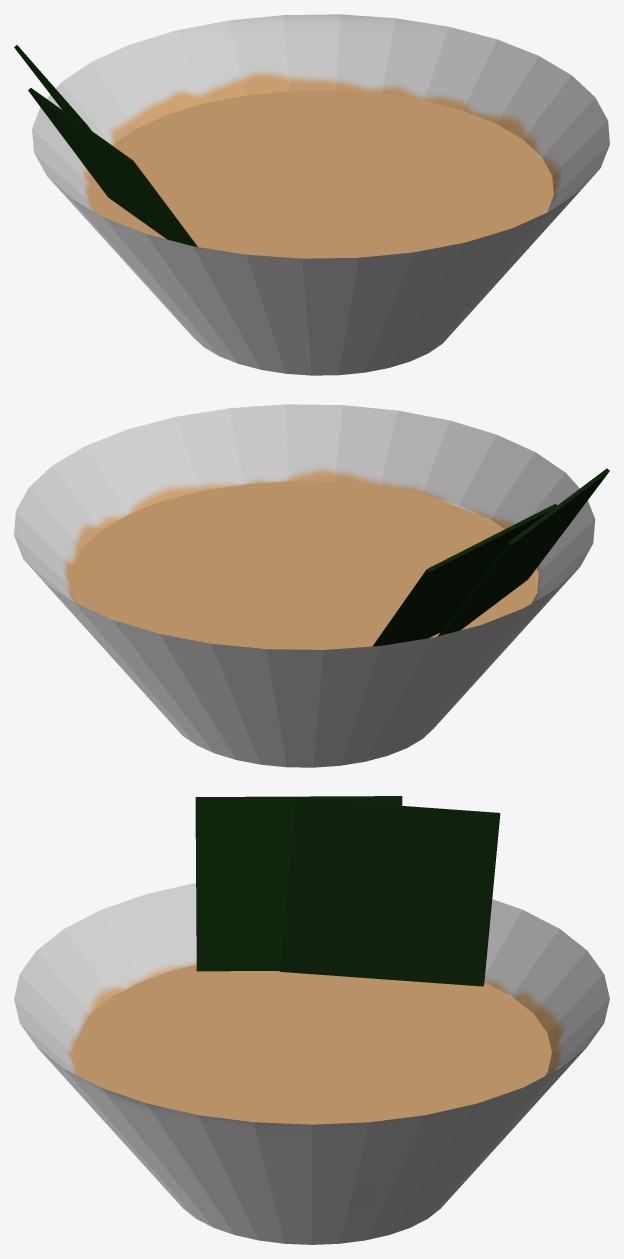
Rendered from eatRamen.obj.
3 renders of one model, top to bottom at view 1: azimuth 30°, elevation 25°; view 2: azimuth 150°, elevation 25°; view 3: azimuth 270°, elevation 25°, orthographic. The views are drawn at different scales.
Parts seen in each view (by area): view 1: 円柱, 立方体_立方体.003, 立方体.001_立方体.002; view 2: 円柱, 立方体.001_立方体.002, 立方体_立方体.003; view 3: 円柱, 立方体.001_立方体.002, 立方体_立方体.003.
Boxes of the visible parts, x1=… form: 円柱: x1=32, y1=14, x2=609, y2=375; 立方体_立方体.003: x1=28, y1=88, x2=197, y2=246; 立方体.001_立方体.002: x1=14, y1=45, x2=91, y2=130; 円柱: x1=14, y1=404, x2=595, y2=767; 立方体.001_立方体.002: x1=372, y1=503, x2=556, y2=646; 立方体_立方体.003: x1=438, y1=468, x2=609, y2=636; 円柱: x1=14, y1=883, x2=609, y2=1244; 立方体.001_立方体.002: x1=279, y1=798, x2=500, y2=986; 立方体_立方体.003: x1=195, y1=796, x2=402, y2=971.
Size of the model in its own units: 2.88 by 1.42 by 2.88.
Materials: 3 (3 with a texture image).
